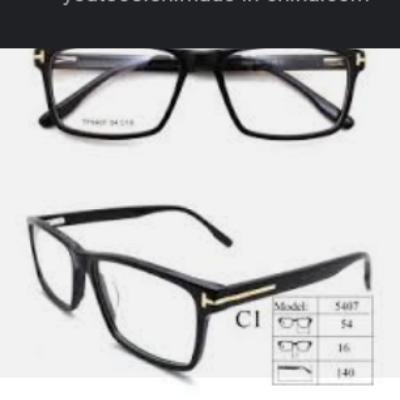glasses: (22, 201, 376, 375), (31, 43, 370, 144)
